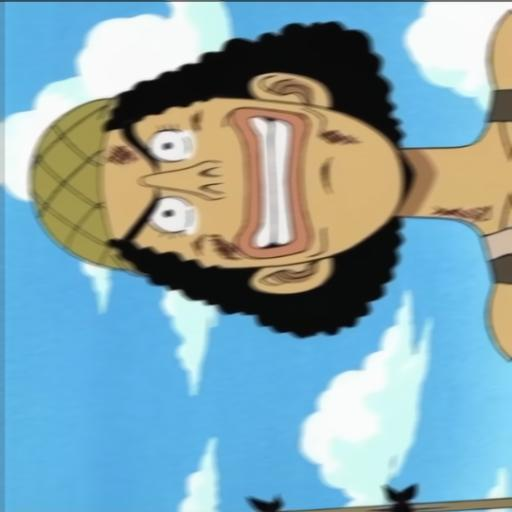Usopp: (7, 0, 512, 387)
